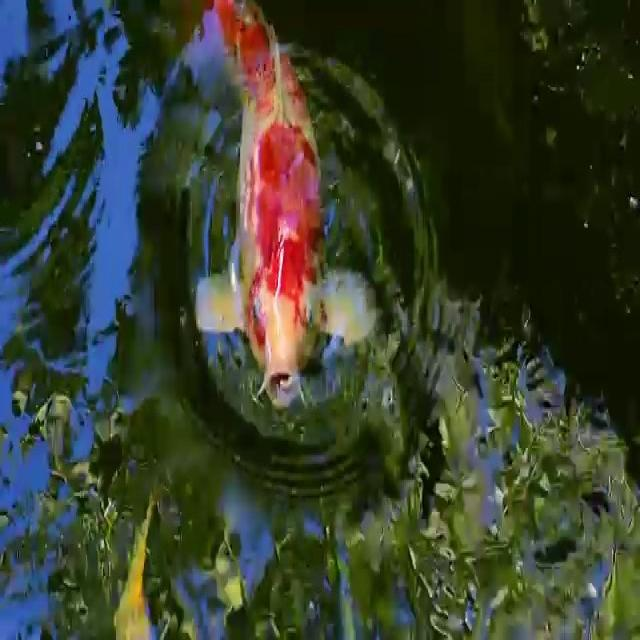fish: (195, 0, 378, 412), (110, 460, 160, 640)
